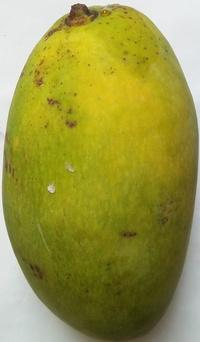PartiallyRipe: (0, 1, 200, 342)
